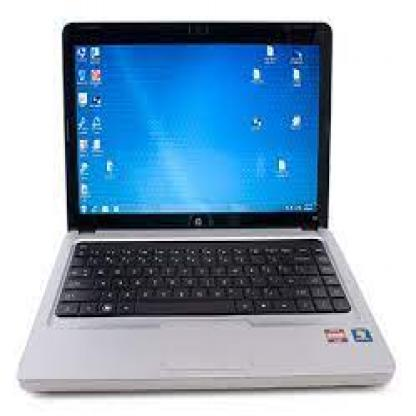NOTEBOOK: (45, 8, 415, 416)
